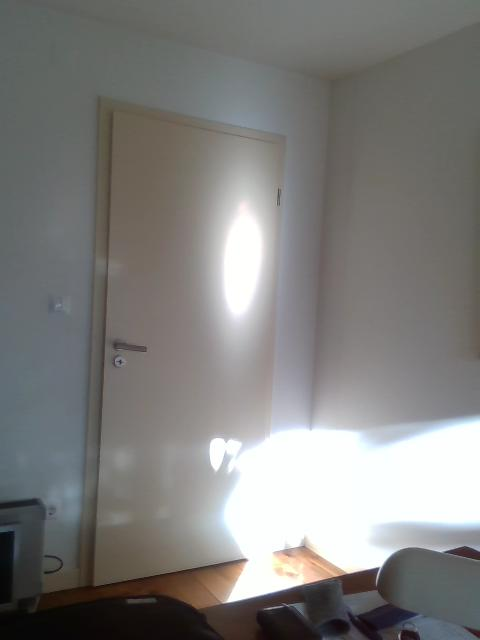door: (95, 107, 280, 590)
